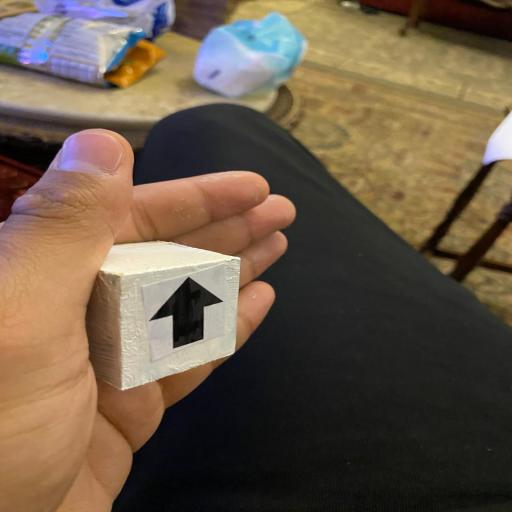Up: (84, 238, 246, 391)
